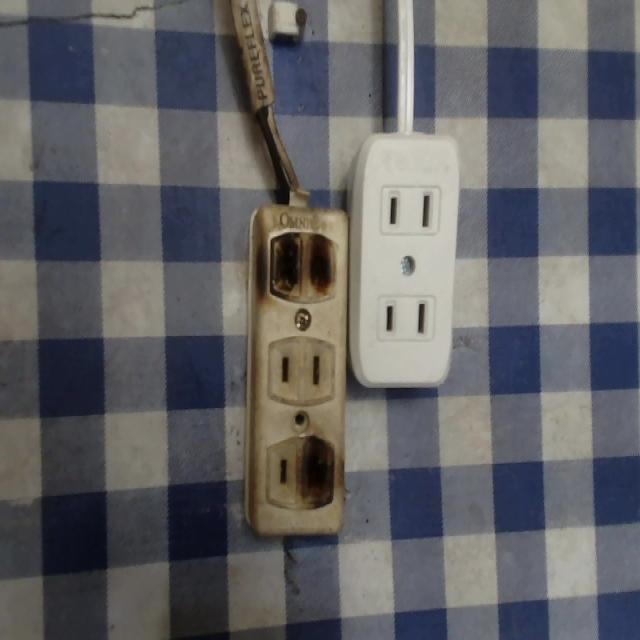-: (262, 221, 347, 307), (294, 424, 340, 519)
